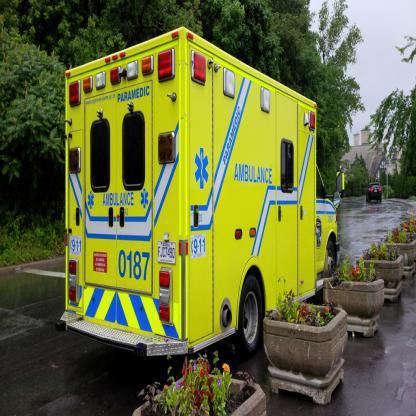Ambulance - v1 Ambulance last generate: (56, 24, 338, 352)
